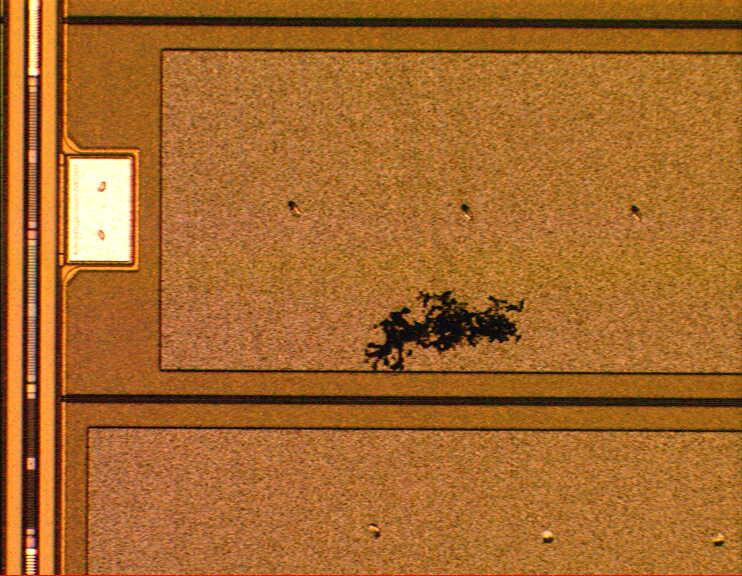SCRATCH: (358, 286, 535, 374)
